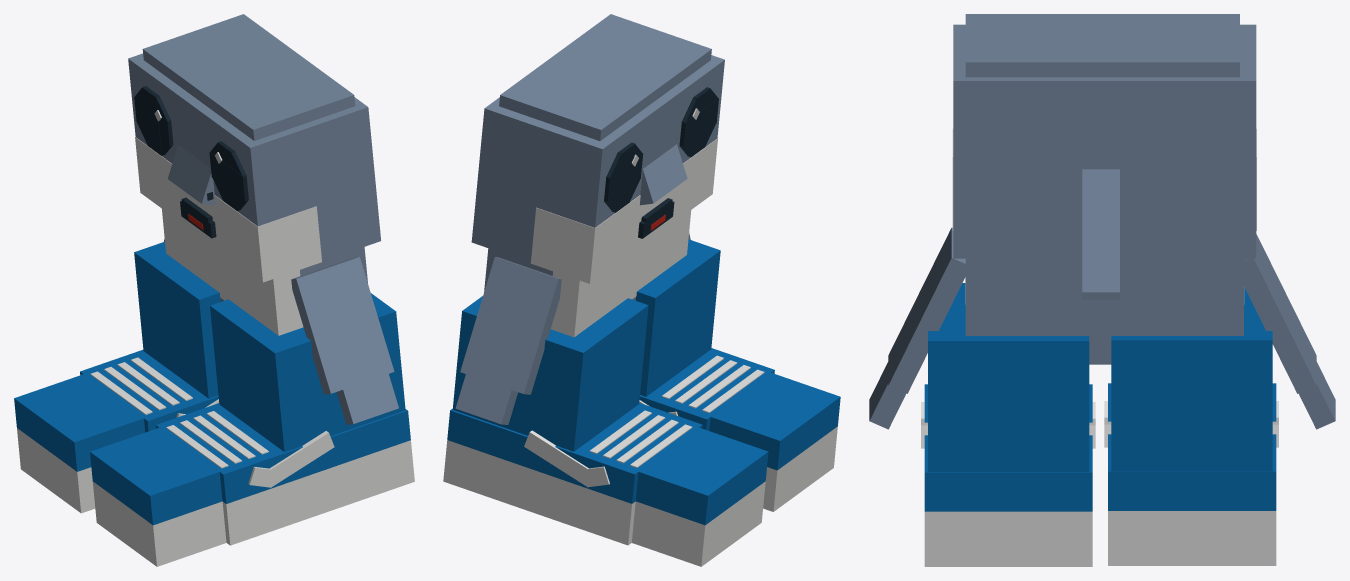
File: Los_Tralaleritos.fbx
3 renders of one model, left to right at view 1: azimuth 30°, elevation 25°; view 2: azimuth 150°, elevation 25°; view 3: azimuth 270°, elevation 25°, orthographic. The views are drawn at different scales.
Parts seen in each view (by area): view 1: Los_Tralaleritos; view 2: Los_Tralaleritos; view 3: Los_Tralaleritos.
Boxes of the visible parts, x1,y1,x2,y2 form: Los_Tralaleritos: (14,14,414,566); Los_Tralaleritos: (443,14,840,566); Los_Tralaleritos: (869,14,1335,566).
Bounding box in the file's own units: 197 × 279 × 231.
